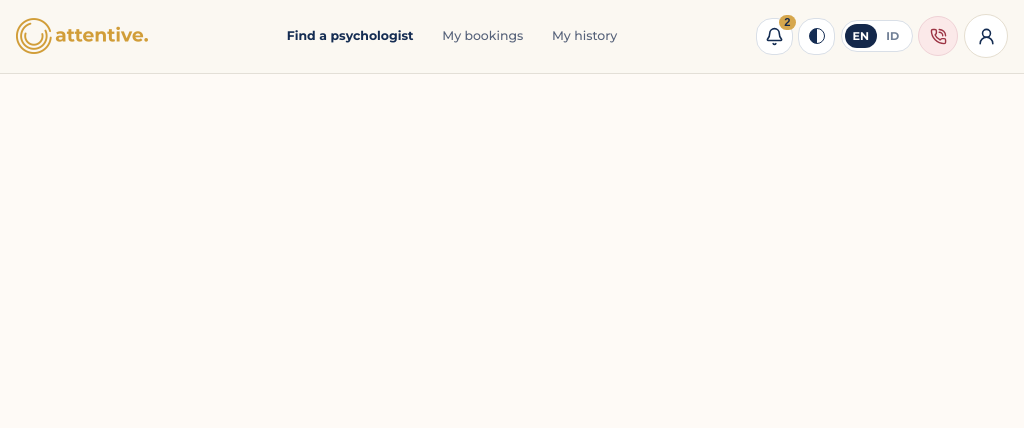
Test: marks account and urgent notifications as read without removing them
The image size is (1024, 428).
Click the button named "Notifications" at (774, 36), box [756,18,793,55]
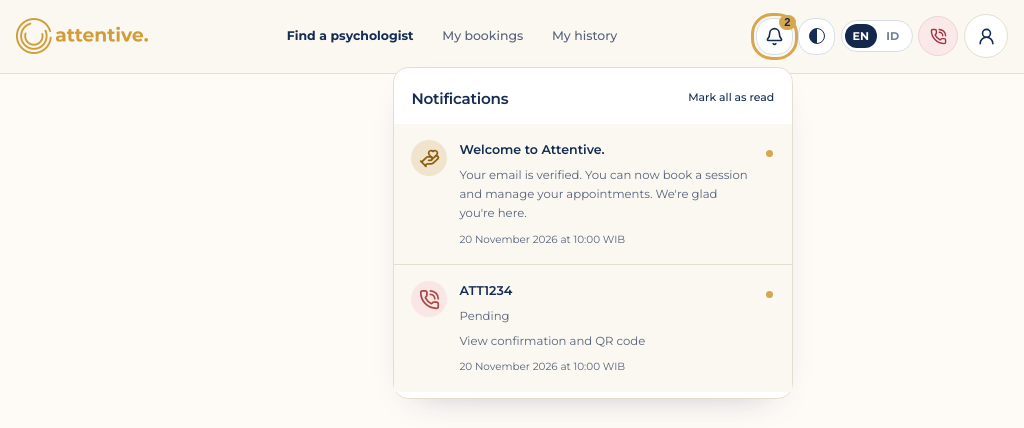
Expected: the text "Welcome to Attentive." is shown, [459,142,605,157]
Click the button "Mark all as read" at (731, 98), box [688,84,774,113]
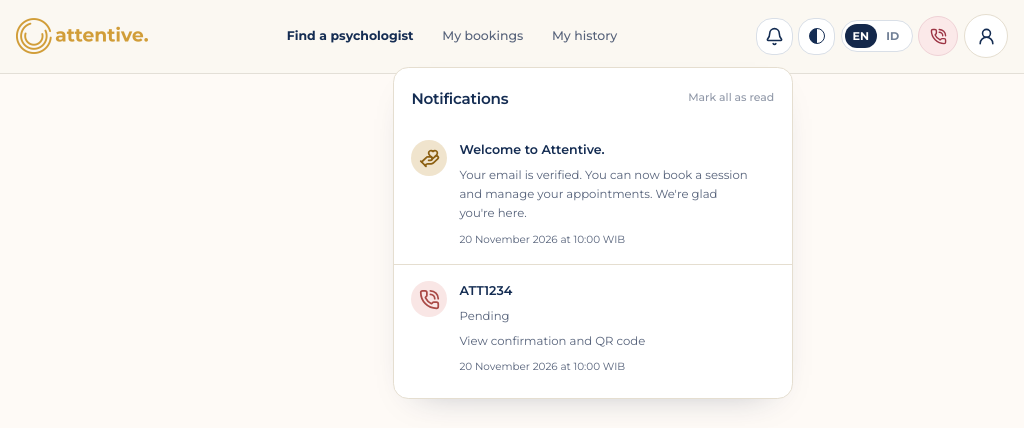
Expected: the text "Welcome to Attentive." is shown, [459,142,605,157]
Expected: the text "ATT1234" is shown, [459,283,512,298]
Expected: the button "Mark all as read" is disabled, [688,84,774,113]
